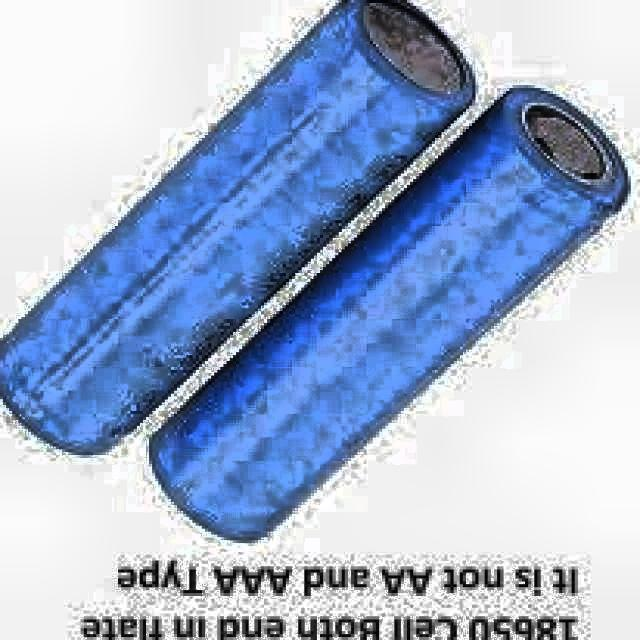battery: (152, 94, 628, 540), (0, 0, 472, 449)
